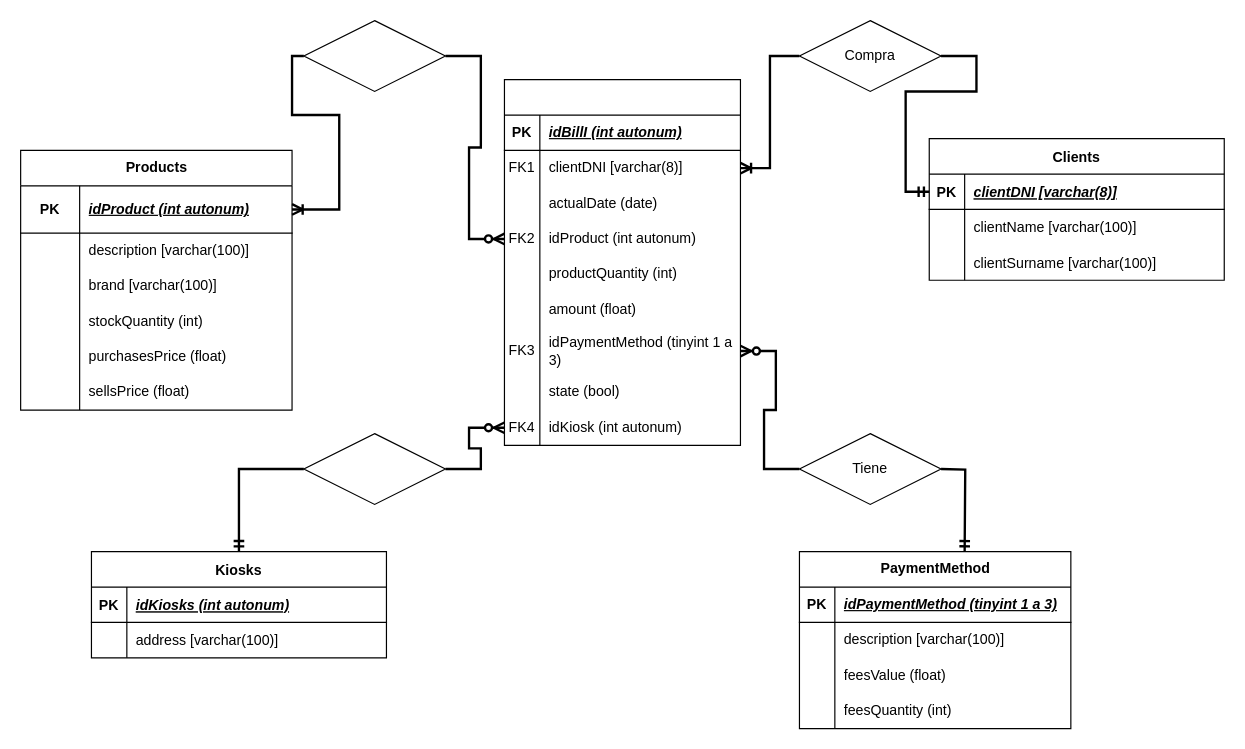
This 1245x749 diagram has some shape labels left out. Here are the shapes that lost their labels. From the top down, the box of each, then its label:
(303, 19, 445, 91): Se compone de
(503, 78, 740, 445): Bills
(303, 432, 445, 504): Vende
